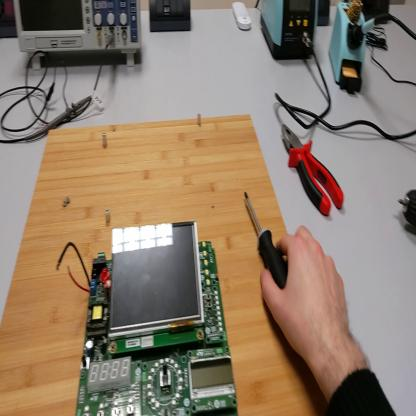electric screwdriver: (398, 190, 416, 231)
hand: (261, 226, 353, 369)
low voltage board: (56, 217, 238, 416)
oscilloscope: (13, 2, 142, 69)
pliers: (281, 124, 344, 216)
screwdriver-: (247, 192, 290, 294)
socket: (1, 1, 17, 39), (365, 2, 390, 20), (318, 2, 331, 28)
welder base: (330, 3, 368, 97)
welder probe tip: (352, 14, 389, 43)
welder station: (262, 2, 318, 61)
working area: (2, 107, 329, 415)
